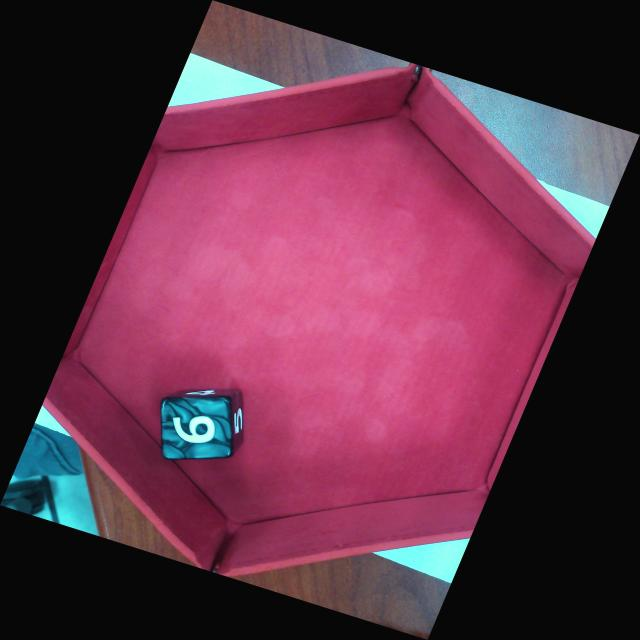dice: (163, 402, 223, 461)
